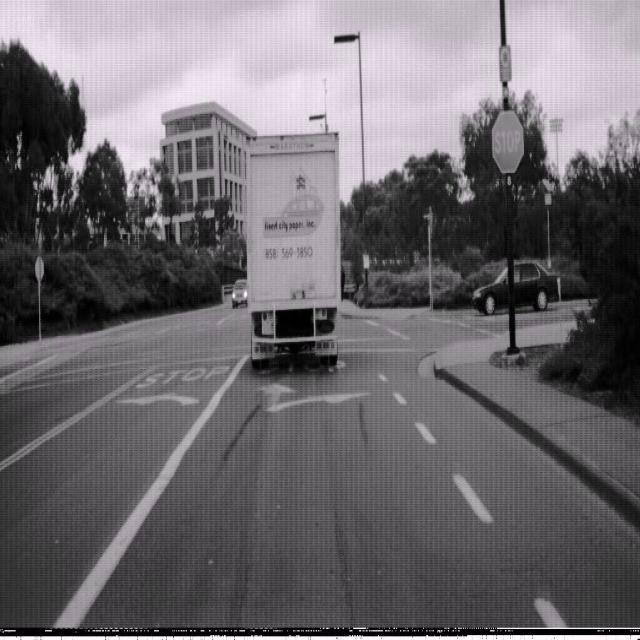stop: (490, 108, 524, 174)
